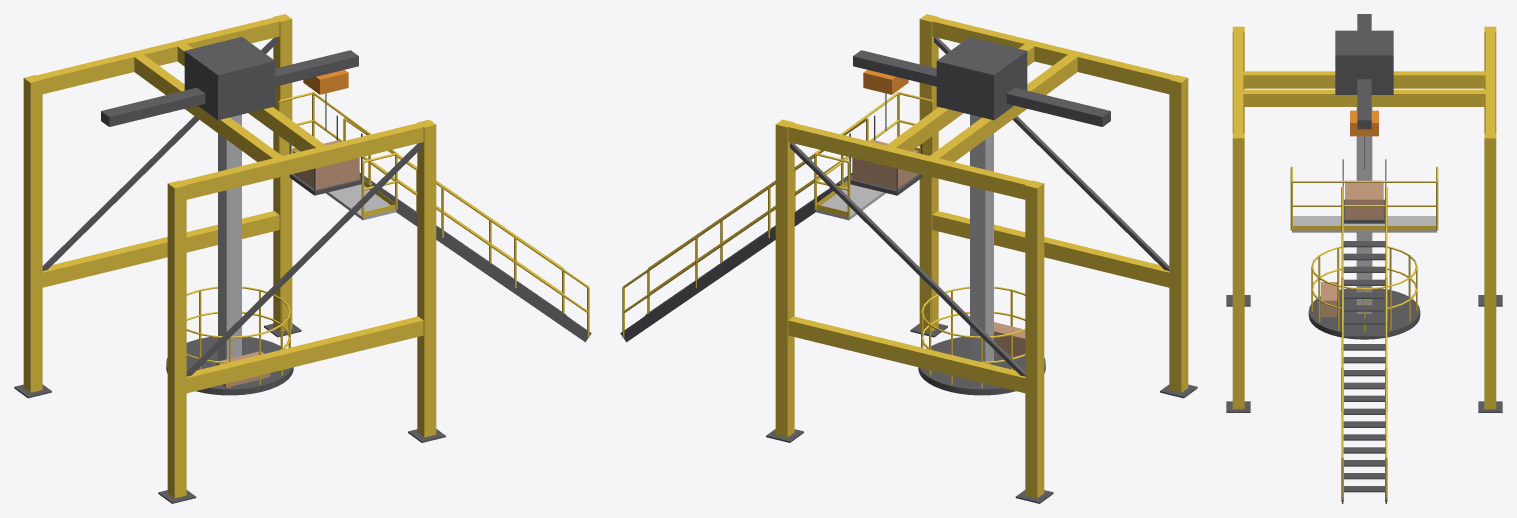
File: SM_LadleReliningTower.fbx
3 views of the same model, side by side, from view 1: azimuth 30°, elevation 25°; view 2: azimuth 150°, elevation 25°; view 3: azimuth 270°, elevation 25° (orthographic). The views are drawn at different scales.
Visible parts, largest first — view 1: LRT_Frame, LRT_Deck, LRT_BrickCage, LRT_HoistTrolley; view 2: LRT_Frame, LRT_Deck, LRT_BrickCage, LRT_HoistTrolley; view 3: LRT_Frame, LRT_Deck, LRT_BrickCage, LRT_HoistTrolley.
Boxes of the visible parts, x1=… form: LRT_Frame: x1=14, y1=14, x2=591, y2=503; LRT_Deck: x1=166, y1=114, x2=293, y2=395; LRT_BrickCage: x1=289, y1=93, x2=362, y2=195; LRT_HoistTrolley: x1=303, y1=70, x2=348, y2=94; LRT_Frame: x1=620, y1=14, x2=1197, y2=503; LRT_Deck: x1=918, y1=114, x2=1045, y2=395; LRT_BrickCage: x1=849, y1=93, x2=922, y2=195; LRT_HoistTrolley: x1=863, y1=70, x2=908, y2=94; LRT_Frame: x1=1226, y1=14, x2=1502, y2=503; LRT_Deck: x1=1308, y1=107, x2=1420, y2=339; LRT_BrickCage: x1=1342, y1=136, x2=1386, y2=223; LRT_HoistTrolley: x1=1350, y1=110, x2=1378, y2=136.
Size of the model in its own units: 1012 by 717 by 570.
